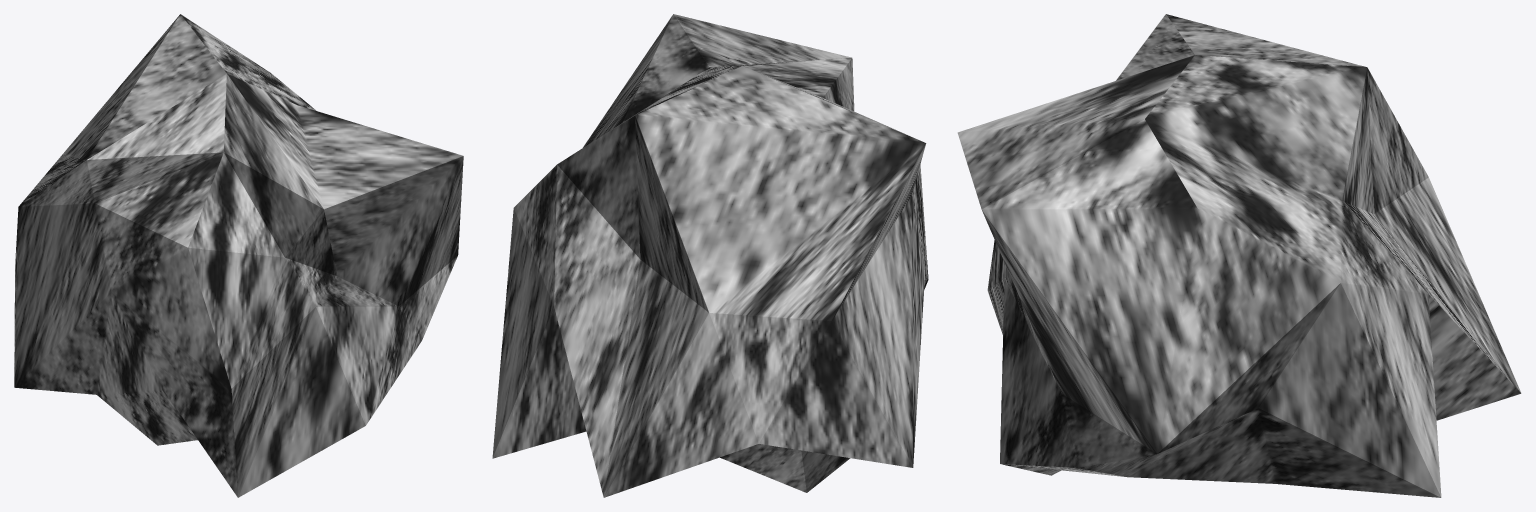
Rendered from meteoro3.obj.
The picture shows the model from 3 angles, left to right: view 1: azimuth 30°, elevation 25°; view 2: azimuth 150°, elevation 25°; view 3: azimuth 270°, elevation 25°; orthographic projection. The views are drawn at different scales.
Visible parts, largest first — view 1: meteoro_Icosphere; view 2: meteoro_Icosphere; view 3: meteoro_Icosphere.
Part boxes in pixels (bbox=[...]): meteoro_Icosphere: bbox=[14, 14, 463, 497]; meteoro_Icosphere: bbox=[492, 14, 928, 497]; meteoro_Icosphere: bbox=[957, 14, 1521, 497].
Size of the model in its own units: 3.62 by 3.23 by 3.66.
